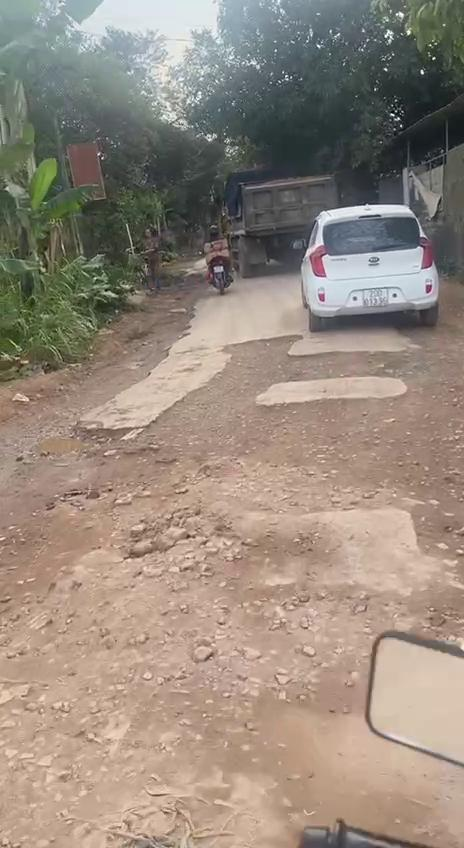pothole: (12, 413, 343, 704), (123, 329, 331, 524), (329, 342, 464, 564)
